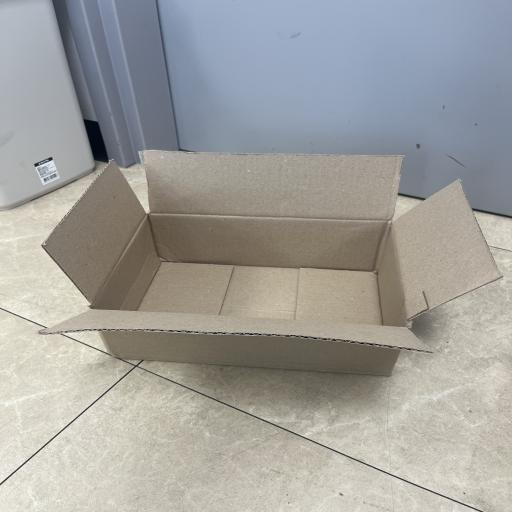box: (38, 150, 505, 378)
opened: (39, 151, 505, 352)
